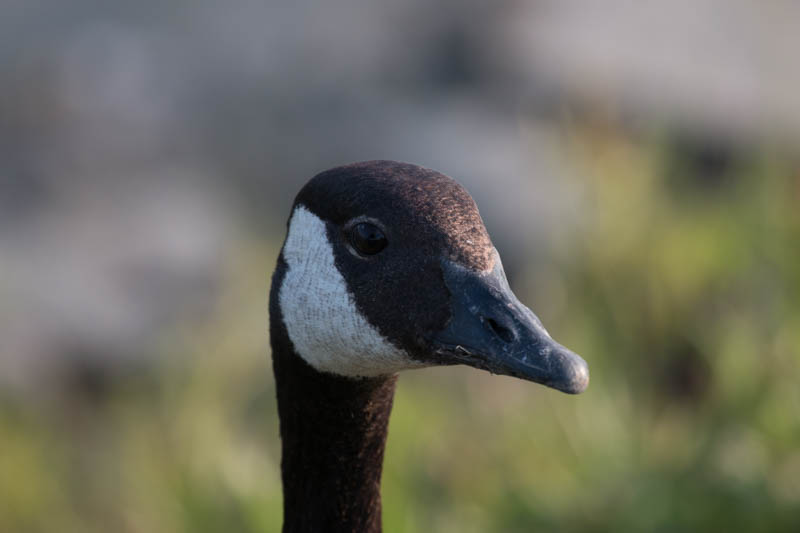goose-head: (268, 161, 592, 398)
